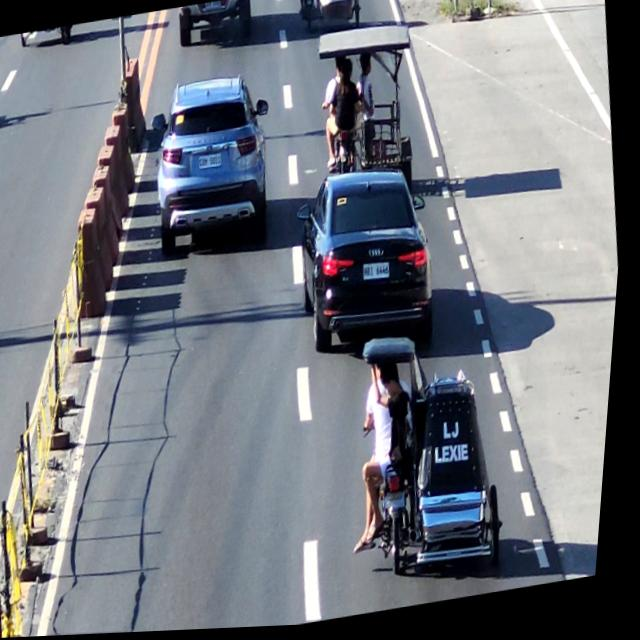Car: (292, 161, 453, 371), (141, 64, 295, 268), (171, 0, 258, 61)
License-Plate: (363, 262, 396, 290), (386, 493, 416, 516), (199, 153, 227, 176), (202, 2, 222, 13)
Tricycle: (345, 321, 528, 597), (303, 22, 436, 207), (294, 0, 367, 38)
